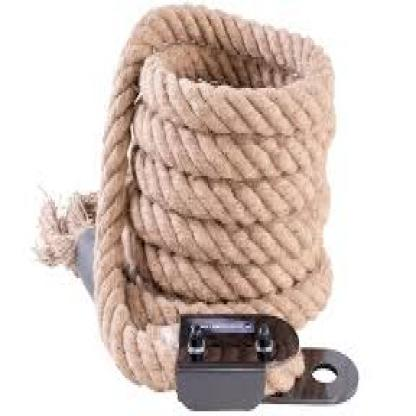Rope: (32, 0, 366, 416)
